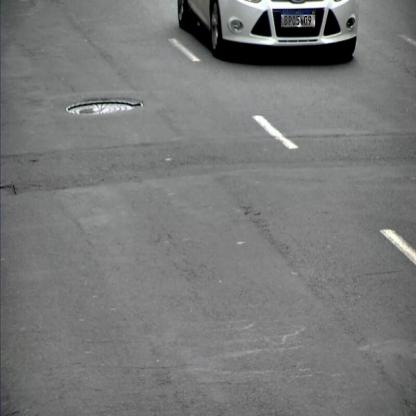PlacaM: (280, 10, 316, 28)
